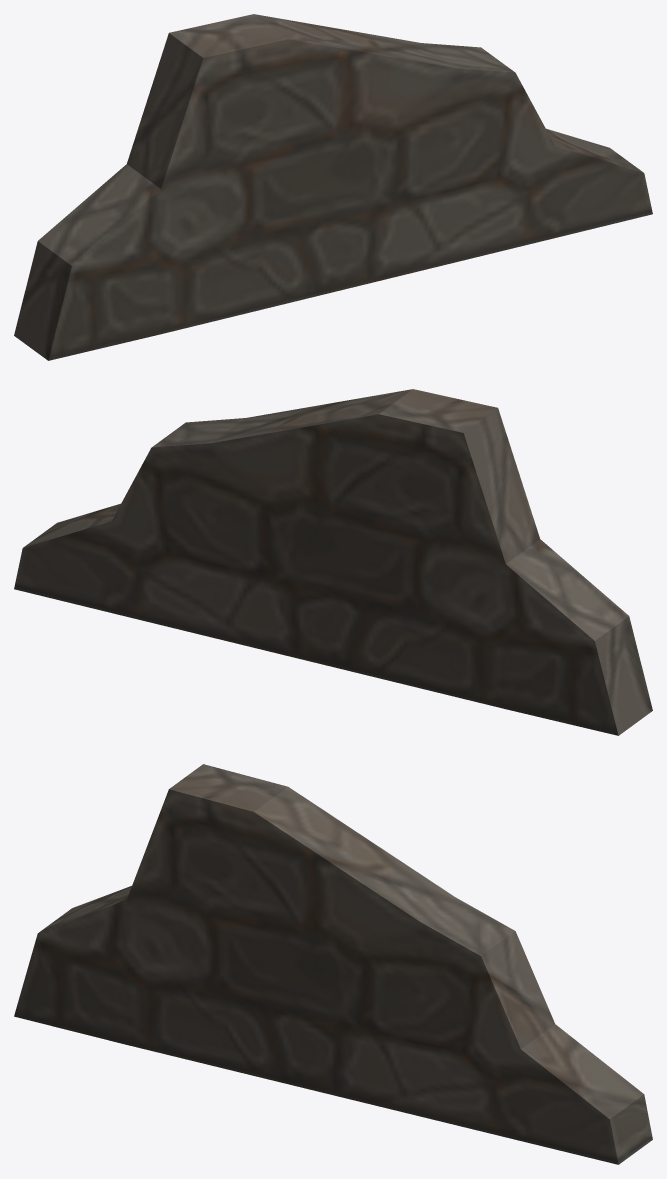
The model's file is ruin_wall_2.FBX.
3 renders of one model, top to bottom at view 1: azimuth 30°, elevation 25°; view 2: azimuth 150°, elevation 25°; view 3: azimuth 330°, elevation 25°, orthographic.
Parts seen in each view (by area): view 1: Object032; view 2: Object032; view 3: Object032.
Part boxes in pixels (x1,y1,x2,y2): Object032: (14, 14, 652, 360); Object032: (14, 389, 652, 735); Object032: (14, 764, 652, 1164).
Bounding box in the file's own units: 6.69 × 2.81 × 0.6597.
